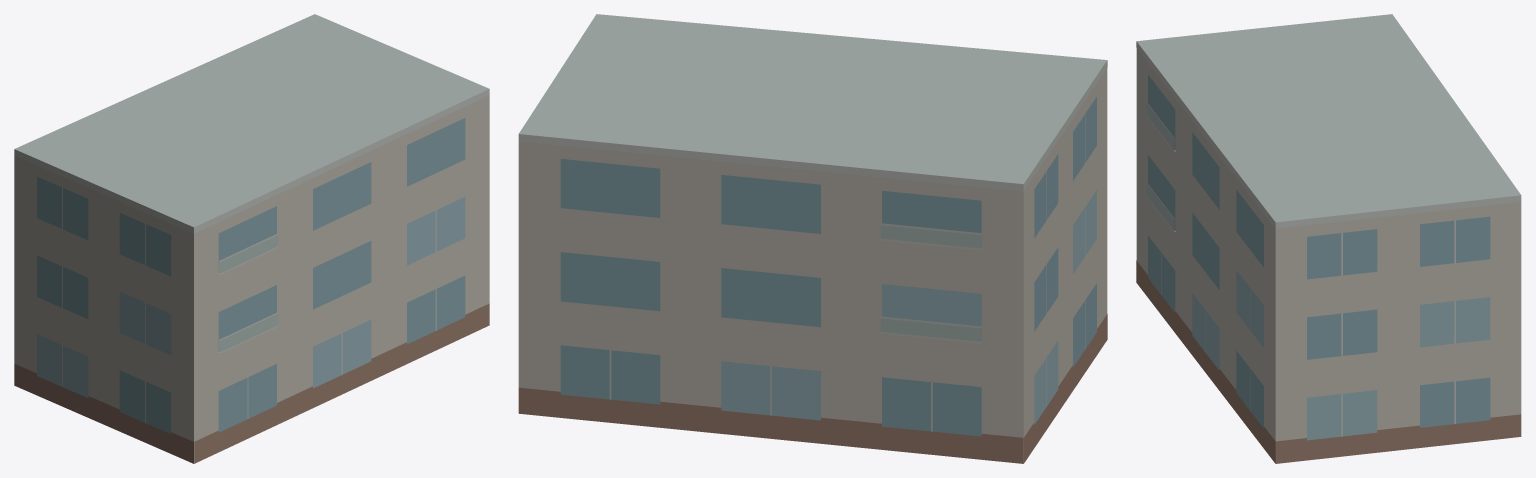
The model's file is survey-upis-32471116.glb.
3 renders of one model, left to right at view 1: azimuth 30°, elevation 25°; view 2: azimuth 150°, elevation 25°; view 3: azimuth 270°, elevation 25°, orthographic. The views are drawn at different scales.
Visible parts, largest first — view 1: survey-upis-32471116.tmp; view 2: survey-upis-32471116.tmp; view 3: survey-upis-32471116.tmp.
Boxes of the visible parts, bbox=[...] form: survey-upis-32471116.tmp: bbox=[14, 14, 489, 463]; survey-upis-32471116.tmp: bbox=[518, 14, 1107, 463]; survey-upis-32471116.tmp: bbox=[1136, 14, 1521, 463].
Size of the model in its own units: 16.95 by 9.15 by 13.23.
